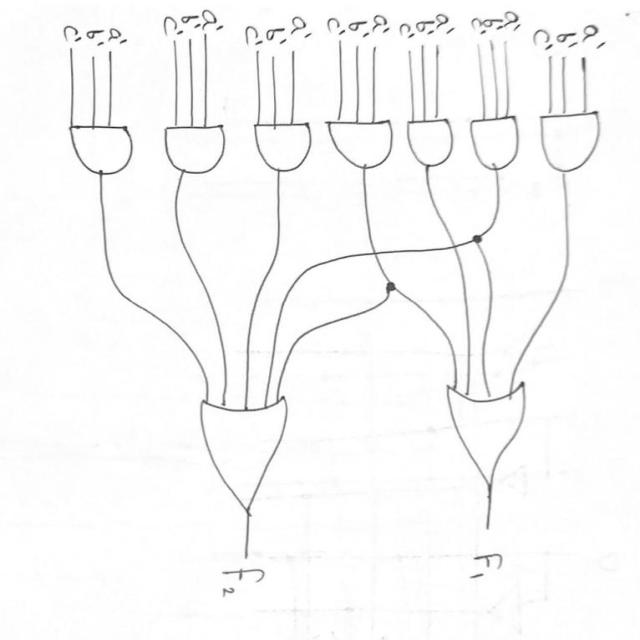AND: (54, 114, 143, 184), (162, 110, 234, 182), (534, 100, 603, 174), (250, 115, 318, 182), (327, 110, 398, 173), (466, 107, 524, 173), (402, 111, 456, 170)
OR: (198, 384, 306, 523), (438, 370, 546, 495)
